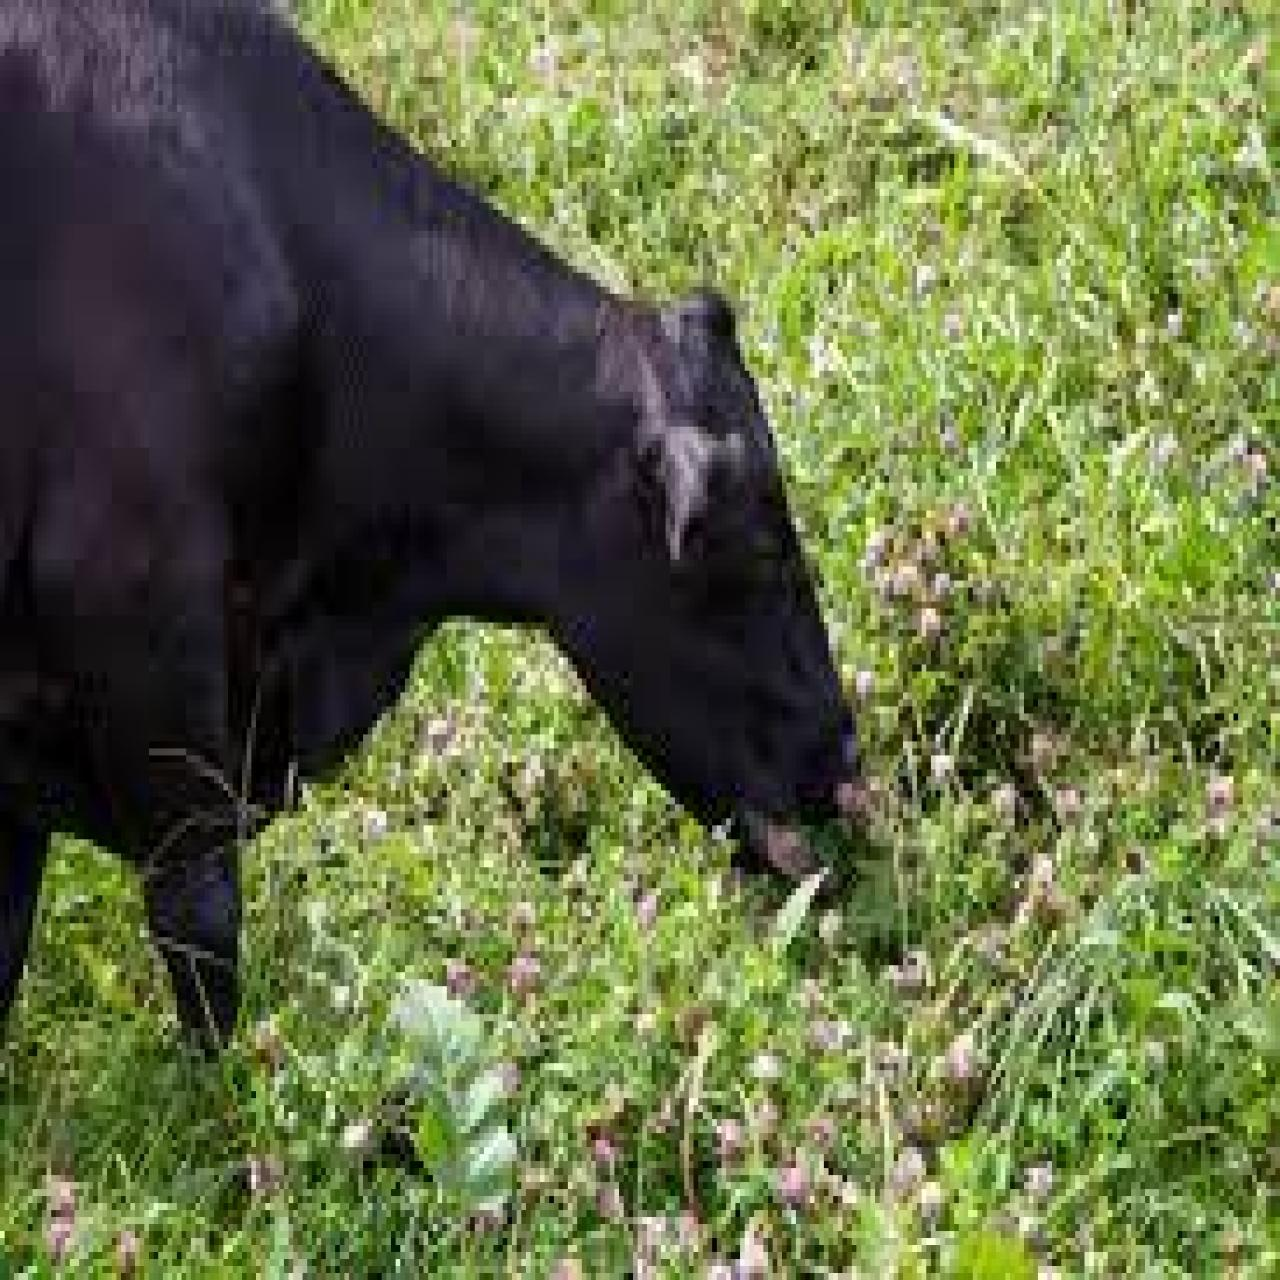cow: (2, 0, 867, 1077)
